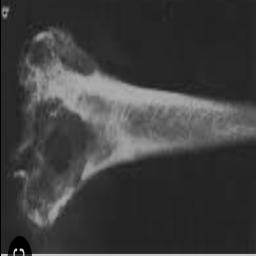cancer: (10, 25, 235, 242)
